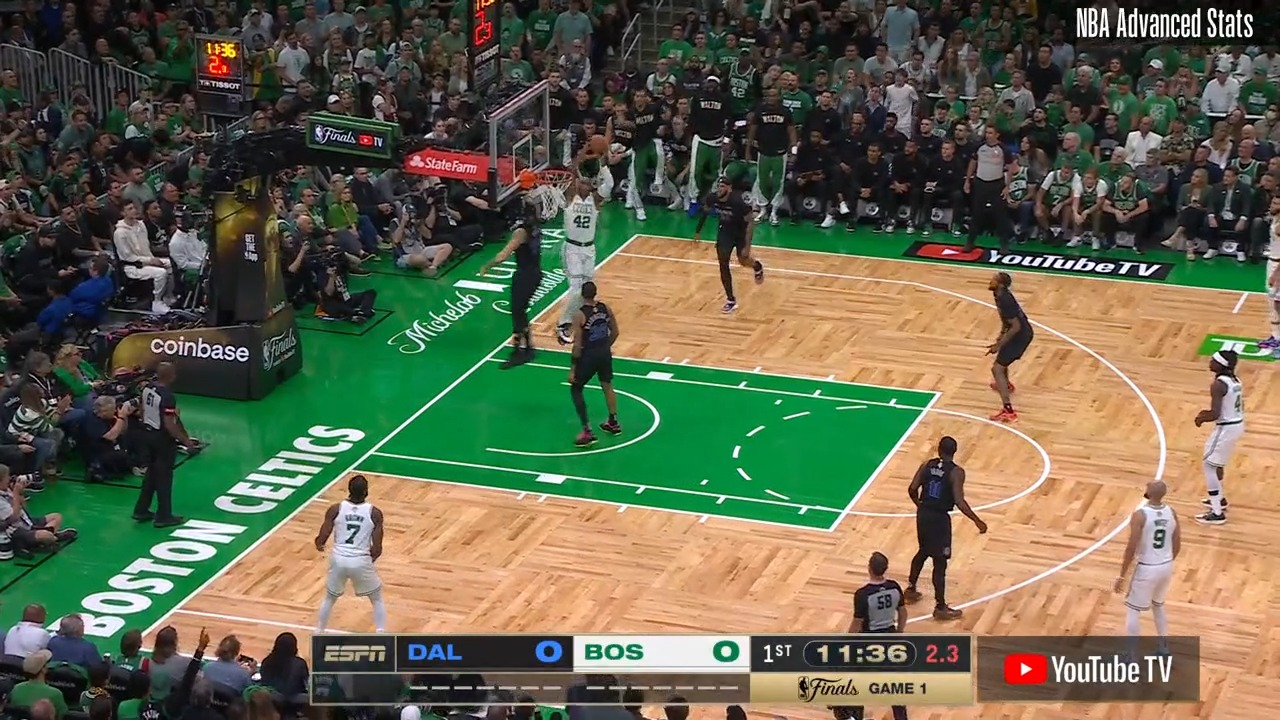basketball: (589, 134, 609, 154)
